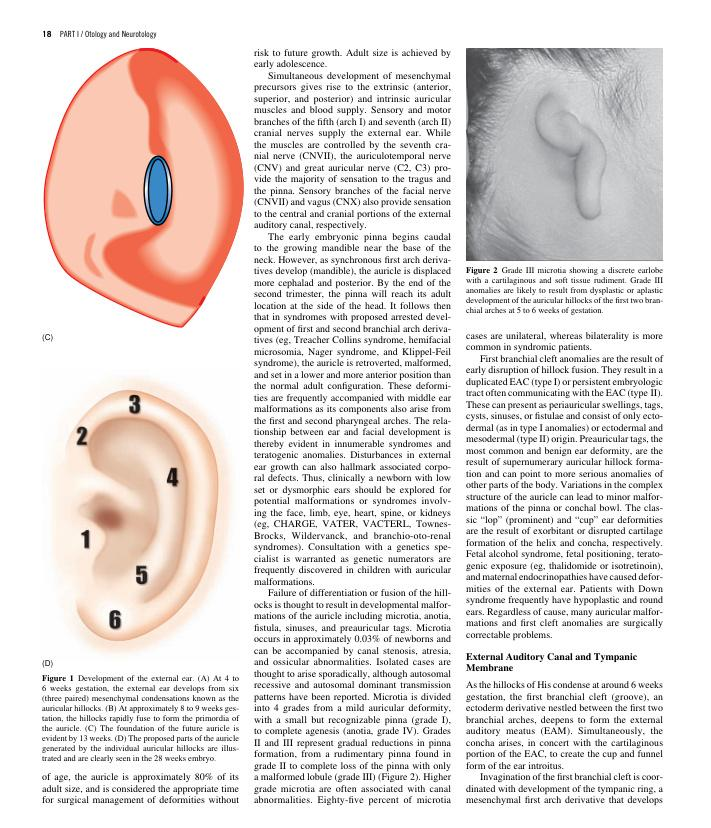caption: (40, 673, 240, 764), (465, 265, 664, 317), (41, 333, 55, 343), (41, 659, 54, 669)
header: (58, 29, 158, 40)
image: (32, 44, 248, 349), (31, 367, 246, 671), (465, 47, 664, 262)
sub-section-heading: (465, 652, 638, 673)
text: (251, 46, 452, 807), (464, 331, 664, 642), (465, 679, 664, 806), (40, 771, 240, 806)
